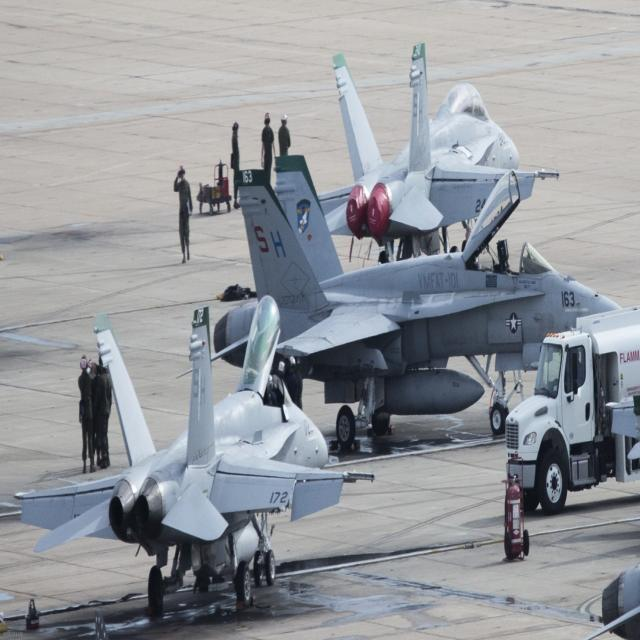MIL_Plane: (175, 154, 622, 448), (13, 294, 376, 612), (317, 41, 520, 265)
